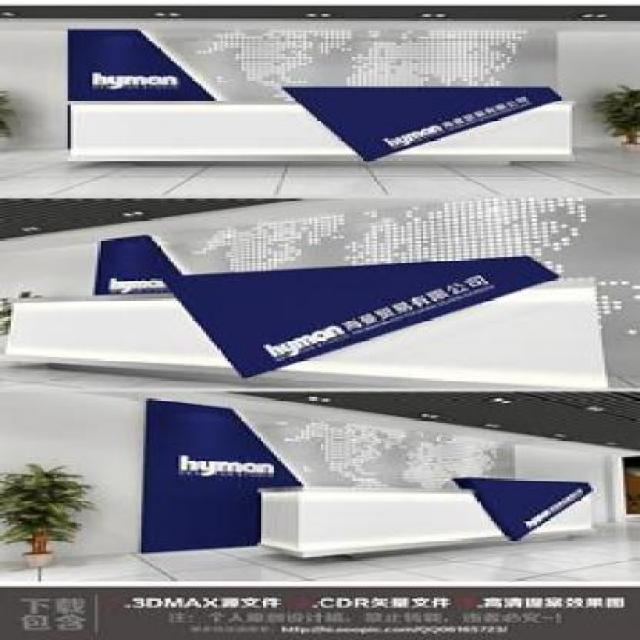frontdesk: (0, 278, 634, 392), (51, 71, 594, 166), (199, 471, 616, 565)
